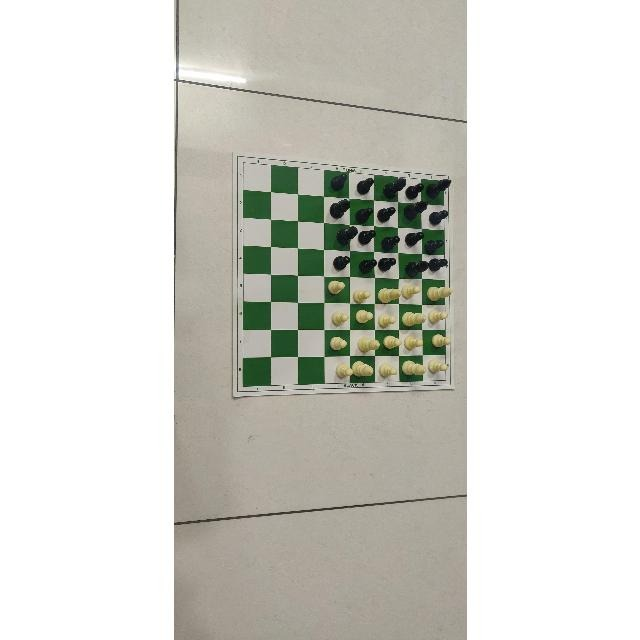black-bishop: (381, 177, 407, 201), (405, 200, 428, 222), (335, 225, 358, 246), (426, 178, 451, 197), (328, 198, 350, 219), (405, 260, 429, 277)
black-pawn: (403, 230, 425, 247), (357, 228, 376, 247), (377, 205, 395, 224), (329, 173, 346, 193), (356, 178, 374, 196), (406, 182, 424, 200), (380, 235, 399, 251), (379, 256, 396, 273), (356, 206, 374, 222), (429, 258, 447, 274), (332, 256, 350, 272), (429, 210, 447, 226), (359, 258, 376, 274), (425, 238, 443, 253)
white-bishop: (426, 286, 452, 304), (357, 334, 380, 353), (377, 287, 401, 305), (400, 311, 425, 328), (352, 361, 374, 379), (402, 360, 426, 376)
white-pawn: (430, 333, 451, 349), (401, 283, 421, 299), (352, 288, 370, 305), (329, 336, 346, 354), (335, 362, 353, 379), (377, 362, 396, 378), (404, 335, 424, 350), (355, 308, 373, 324), (429, 309, 447, 325), (376, 313, 395, 328), (427, 360, 447, 374), (330, 310, 348, 325), (383, 334, 401, 349), (327, 279, 344, 294)
